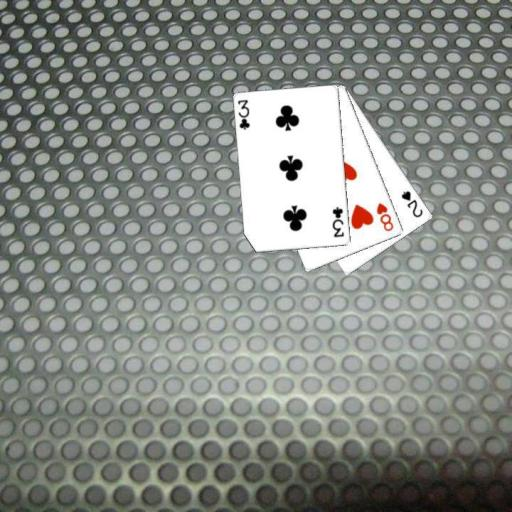card-corner: (398, 188, 425, 219), (374, 200, 396, 233), (329, 204, 346, 239), (235, 96, 251, 132)
